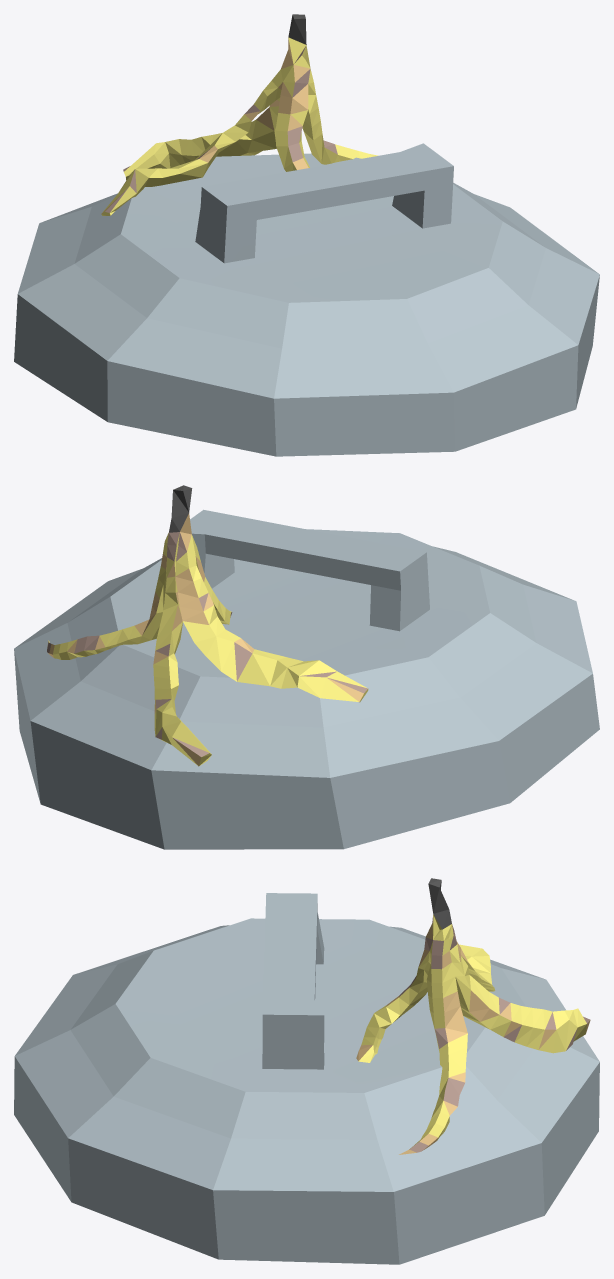
File: trash can lid.fbx
3 views of the same model, one above another, from view 1: azimuth 30°, elevation 25°; view 2: azimuth 150°, elevation 25°; view 3: azimuth 270°, elevation 25° (orthographic).
Visible parts, largest first — view 1: group799439630, group5319319, group1654266571, group645389299, group1422156943; view 2: group799439630, group5319319, group1654266571, group1422156943, group645389299; view 3: group799439630, group1654266571, group1422156943, group645389299, group5319319.
Part boxes in pixels (bbox=[...]): group799439630: bbox=[14, 143, 599, 456]; group5319319: bbox=[101, 18, 310, 215]; group1654266571: bbox=[123, 14, 306, 179]; group645389299: bbox=[275, 37, 310, 171]; group1422156943: bbox=[302, 69, 377, 164]; group799439630: bbox=[14, 509, 599, 849]; group5319319: bbox=[175, 513, 368, 702]; group1654266571: bbox=[153, 485, 211, 766]; group1422156943: bbox=[47, 533, 168, 659]; group645389299: bbox=[192, 535, 232, 624]; group799439630: bbox=[14, 893, 599, 1264]; group1654266571: bbox=[428, 878, 590, 1053]; group1422156943: bbox=[399, 924, 467, 1154]; group645389299: bbox=[356, 915, 433, 1062]; group5319319: bbox=[433, 915, 495, 991].
Bounding box in the file's own units: 199 × 115 × 207.
